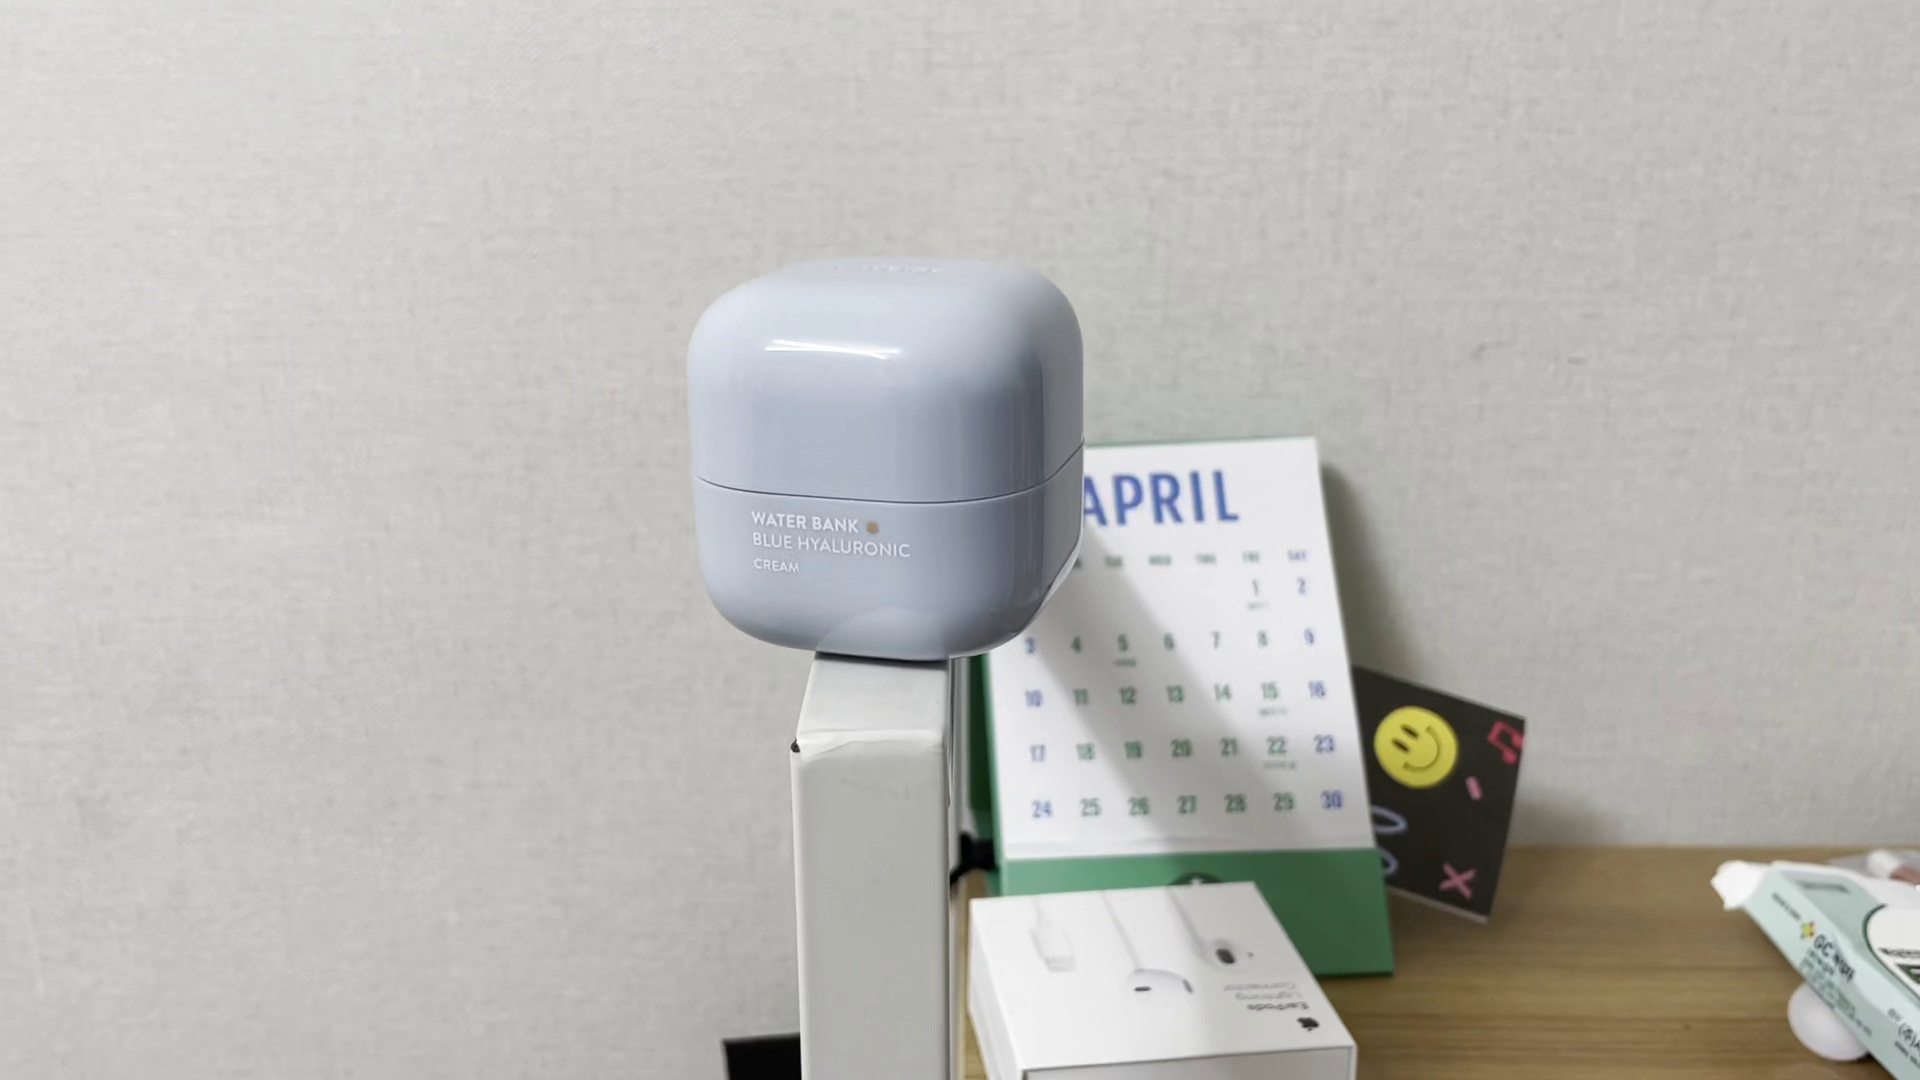cream: (684, 251, 1091, 654)
